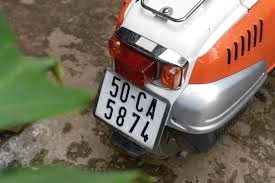Bien-so: (91, 62, 176, 147)
